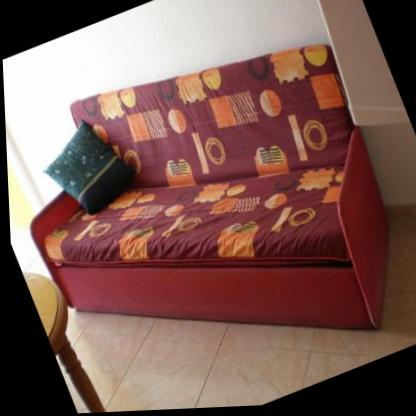Ceramic floor: (63, 309, 416, 413)
Sofa: (28, 47, 387, 333)
